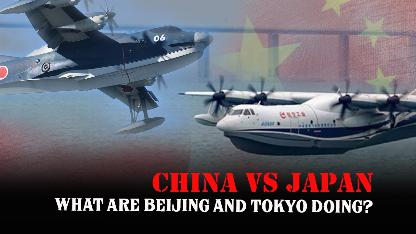AG600: (177, 74, 415, 156)
Tu95: (0, 0, 213, 134)
